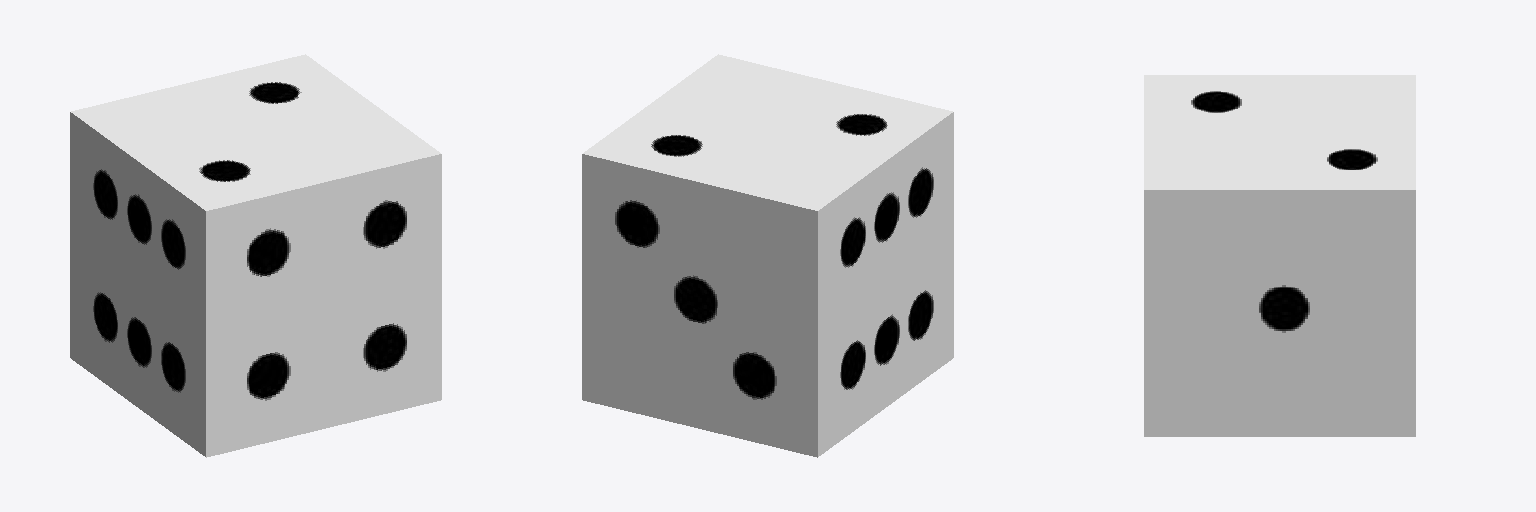
3 views of the same model, side by side, from view 1: azimuth 30°, elevation 25°; view 2: azimuth 150°, elevation 25°; view 3: azimuth 270°, elevation 25° (orthographic).
Visible parts, largest first — view 1: Cube; view 2: Cube; view 3: Cube.
Boxes of the visible parts, x1,y1,x2,y2 form: Cube: [70, 54, 441, 457]; Cube: [582, 54, 953, 457]; Cube: [1144, 75, 1415, 436].
Size of the model in its own units: 2 by 2 by 2.
Materials: 1 (1 with a texture image).